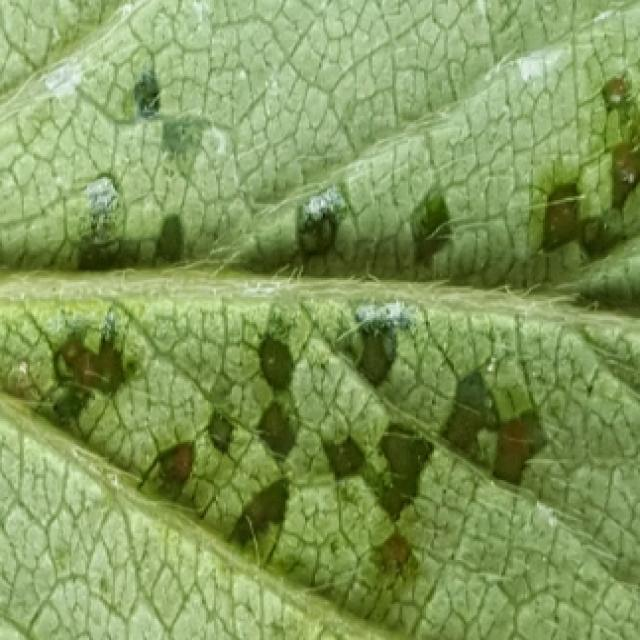Angular Leafspot: (0, 61, 640, 637)
